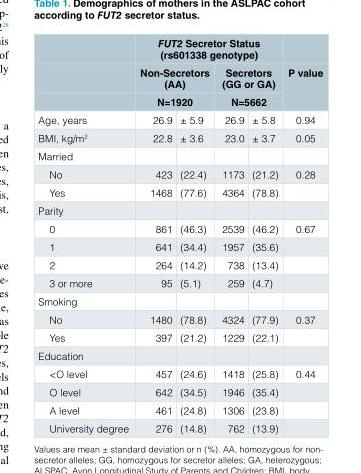table: (37, 36, 322, 434)
table column: (37, 36, 133, 434), (133, 36, 175, 434), (175, 36, 216, 434), (282, 36, 322, 434), (247, 36, 282, 434), (216, 36, 247, 434)
table column header: (37, 36, 322, 128)
table projected row header: (37, 146, 322, 164), (37, 201, 322, 219), (37, 291, 322, 309), (37, 346, 322, 364)
table row: (37, 62, 322, 92), (37, 36, 322, 62), (37, 182, 322, 201), (37, 309, 322, 328), (37, 92, 322, 110), (37, 110, 322, 128), (37, 128, 322, 146), (37, 146, 322, 164), (37, 164, 322, 182), (37, 201, 322, 219), (37, 219, 322, 237), (37, 237, 322, 255), (37, 255, 322, 273), (37, 273, 322, 291), (37, 291, 322, 309), (37, 328, 322, 346), (37, 346, 322, 364), (37, 364, 322, 382), (37, 382, 322, 400), (37, 400, 322, 418), (37, 418, 322, 434)
table spanning cell: (37, 36, 133, 128), (133, 62, 216, 110), (133, 36, 282, 62), (282, 36, 322, 128), (216, 62, 282, 110)
